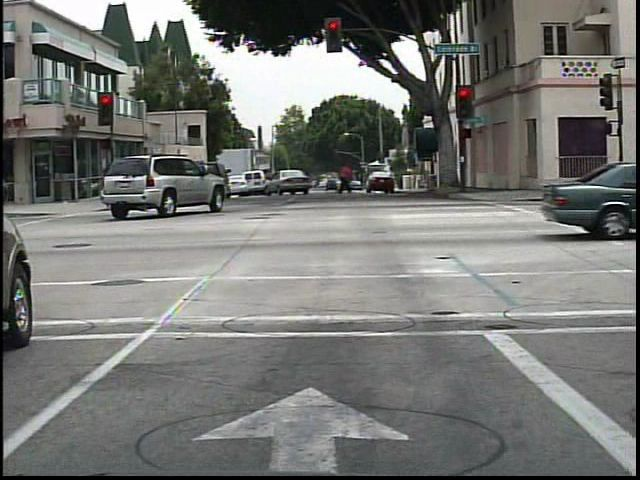person: (332, 157, 360, 206)
